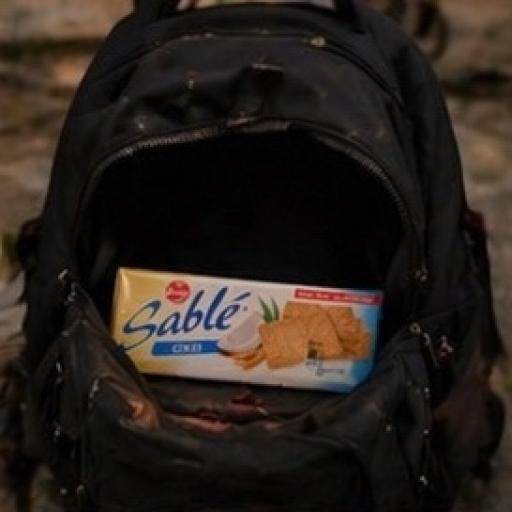sabl: (74, 204, 416, 454)
